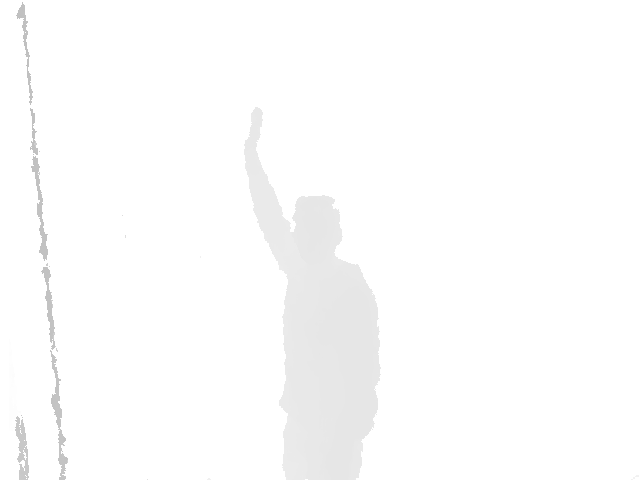hand: (244, 106, 263, 151)
head: (293, 195, 342, 258)
person: (243, 106, 382, 480)
